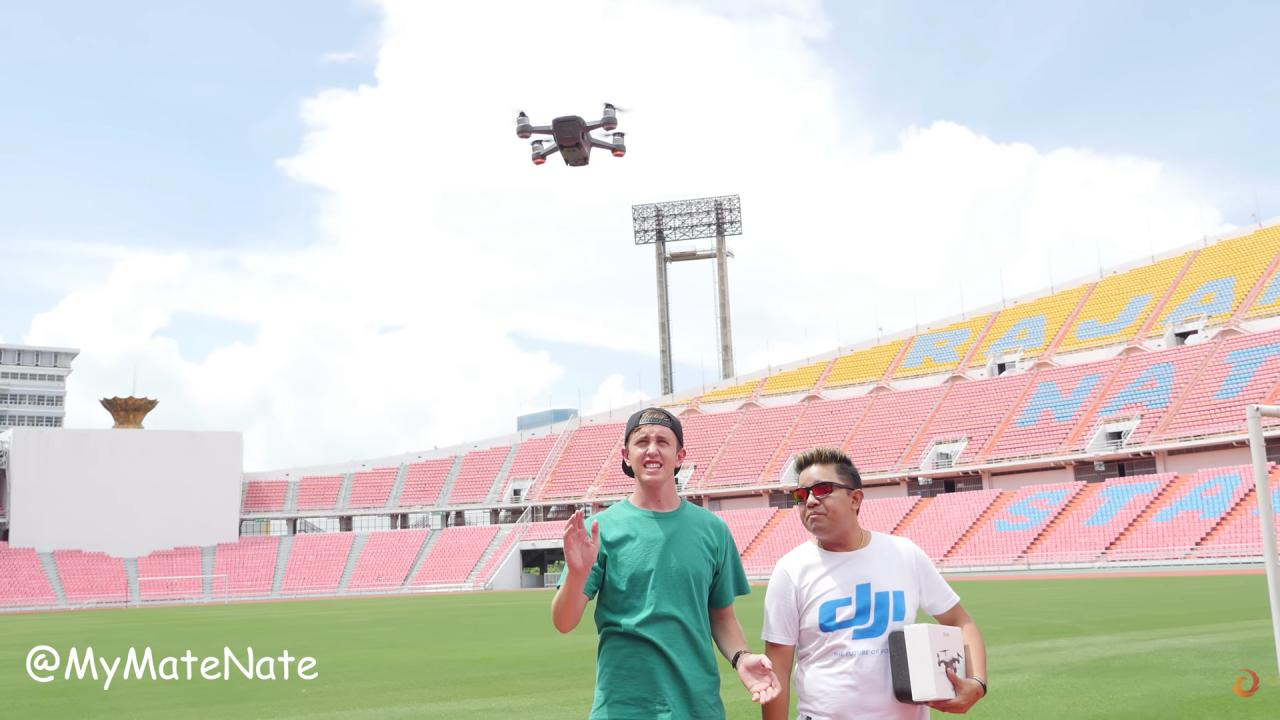Drone: (488, 83, 655, 187)
